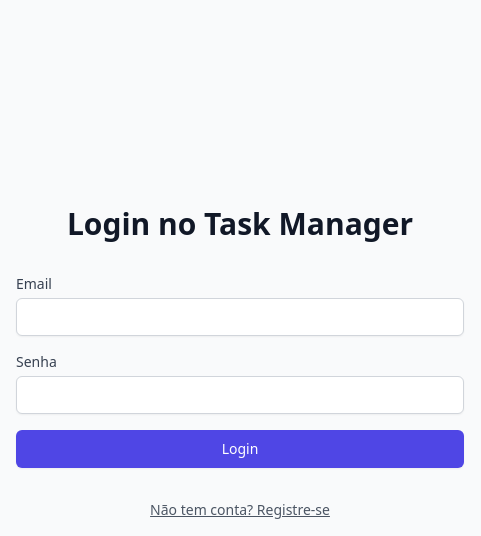
Test: Login user › should render a toast error when invalid credentials
The width and height of the screenshot is (481, 536).
Type "wrongemail@wrong.com" into the field labelled "Email" at [240, 317], box [16, 298, 464, 336]
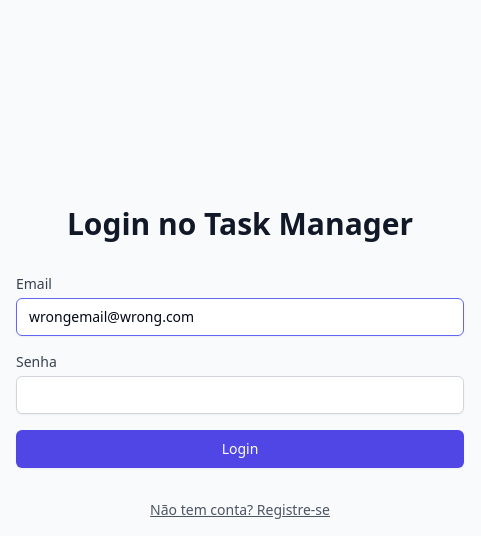
Type "wrongpassword" into the password field labelled "Senha" at [240, 395], box [16, 376, 464, 414]
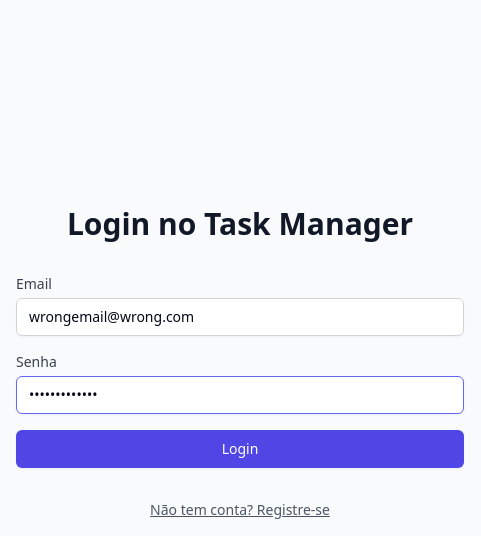
Click the submit button at [240, 449], box [16, 430, 464, 468]
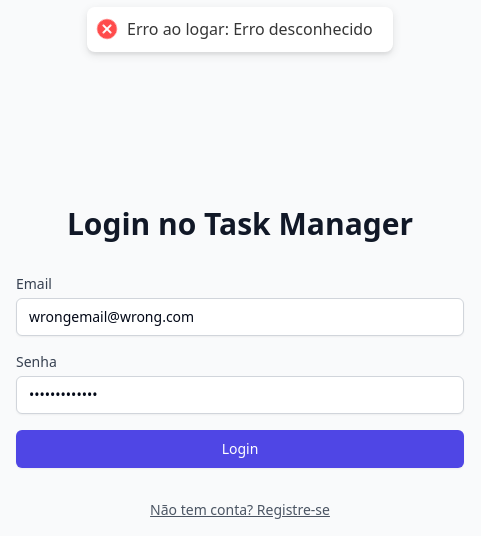
Expected: the message "Erro ao logar: Erro desconhecido" is shown, [127, 19, 373, 40]
